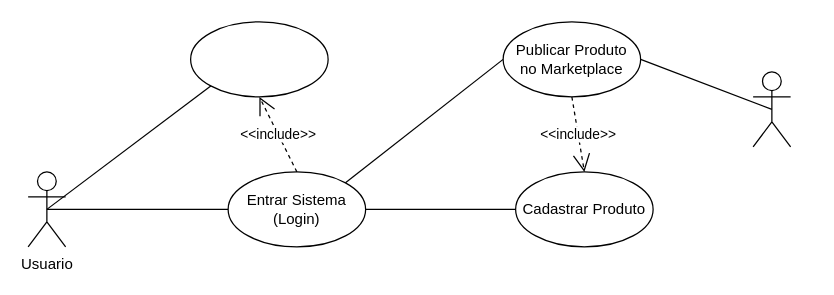
The diagram is 834 pixels wide and 295 high, and some of its shapes have lost their labels. Each missing label, with the centre of its shape:
"Cadastrar Usuário" belongs at (x=258, y=59).
"Marketplace" belongs at (x=771, y=109).
